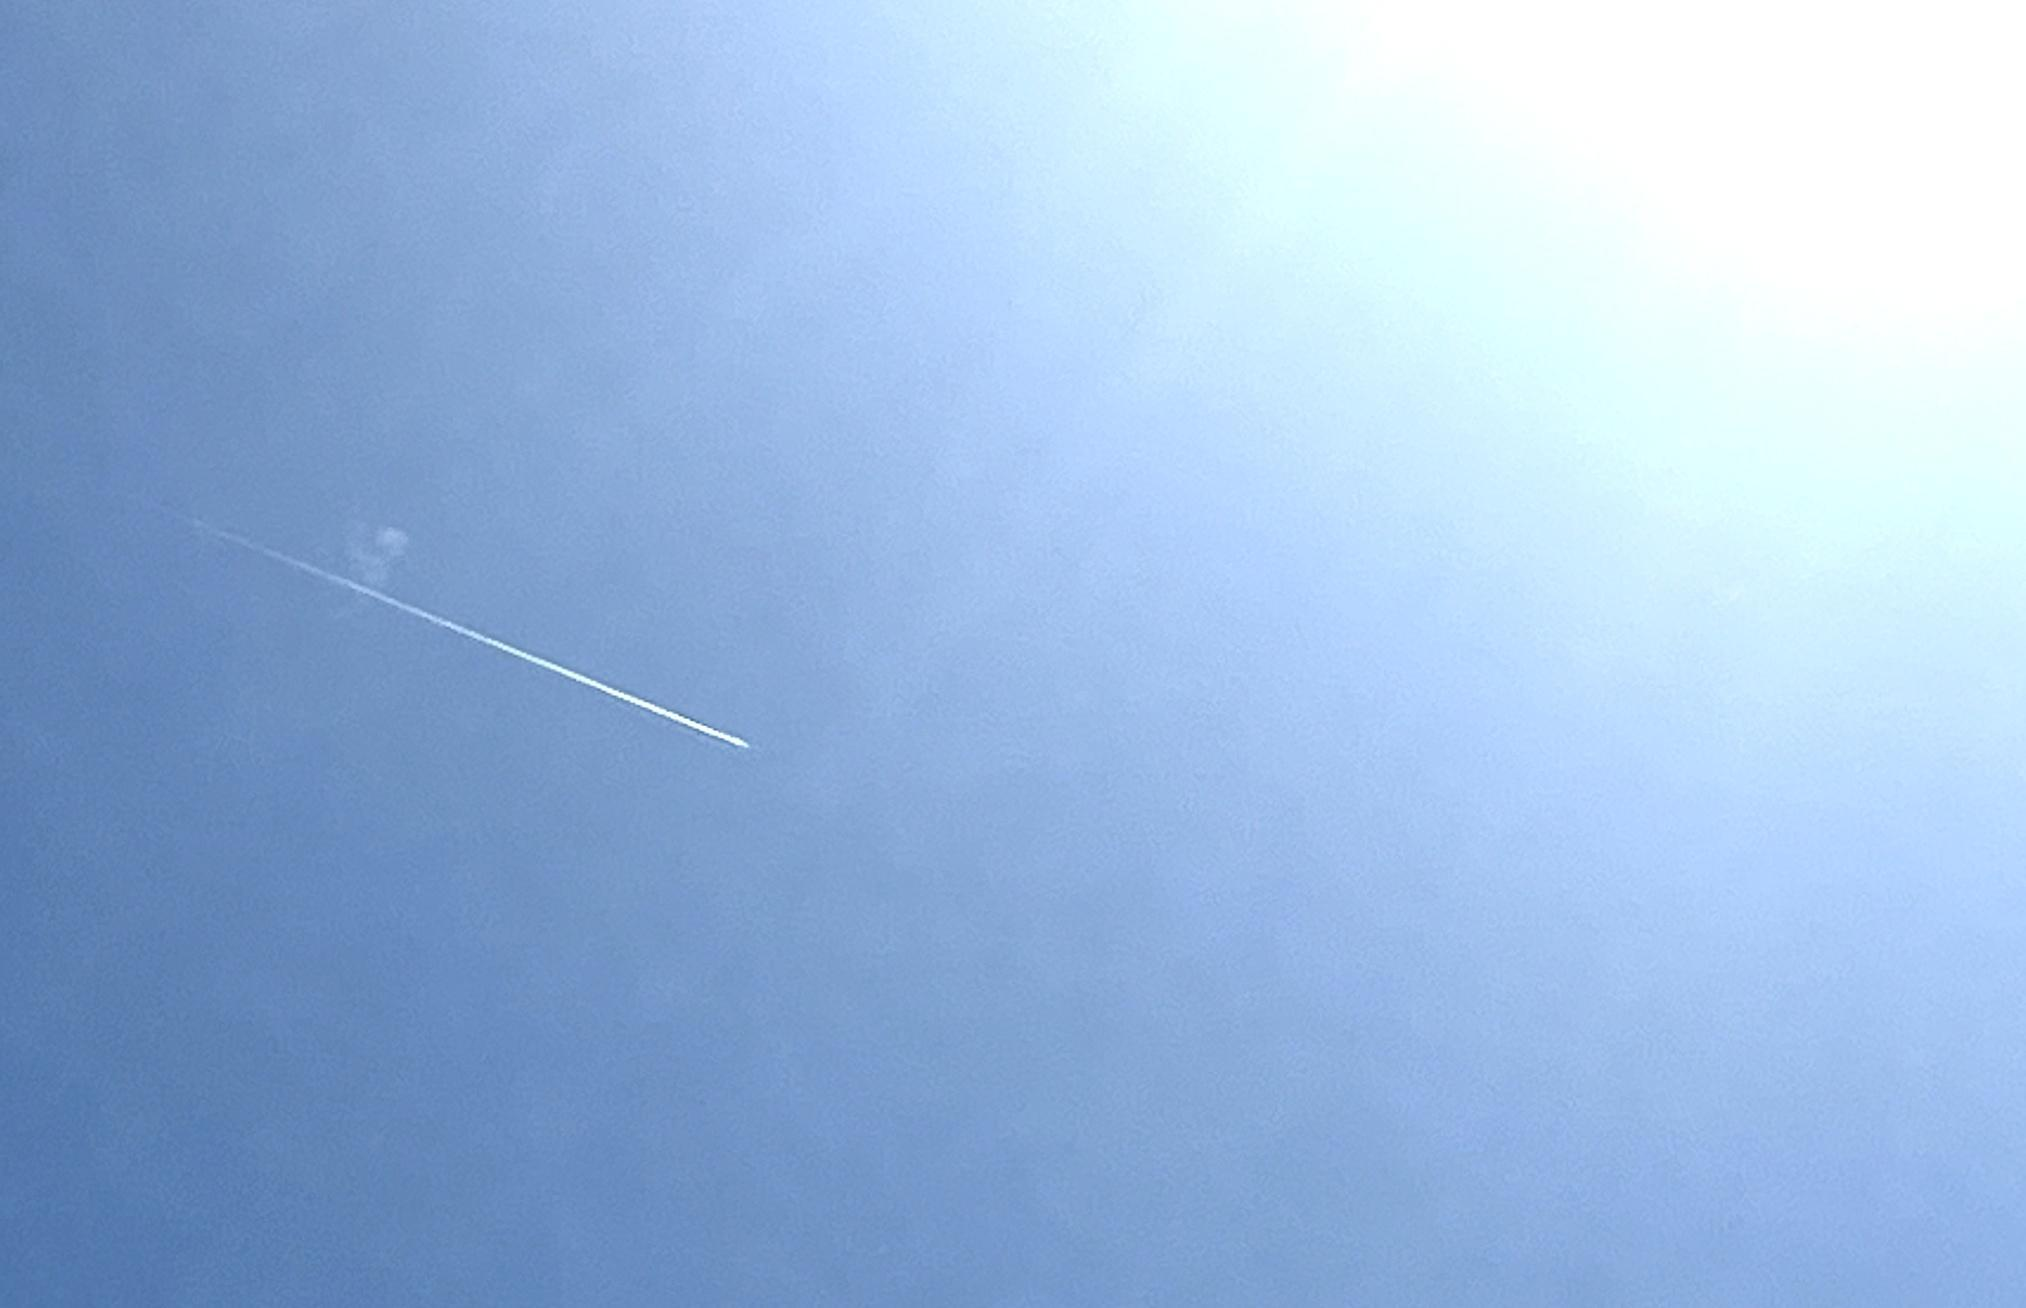Plane: (511, 619, 778, 800)
